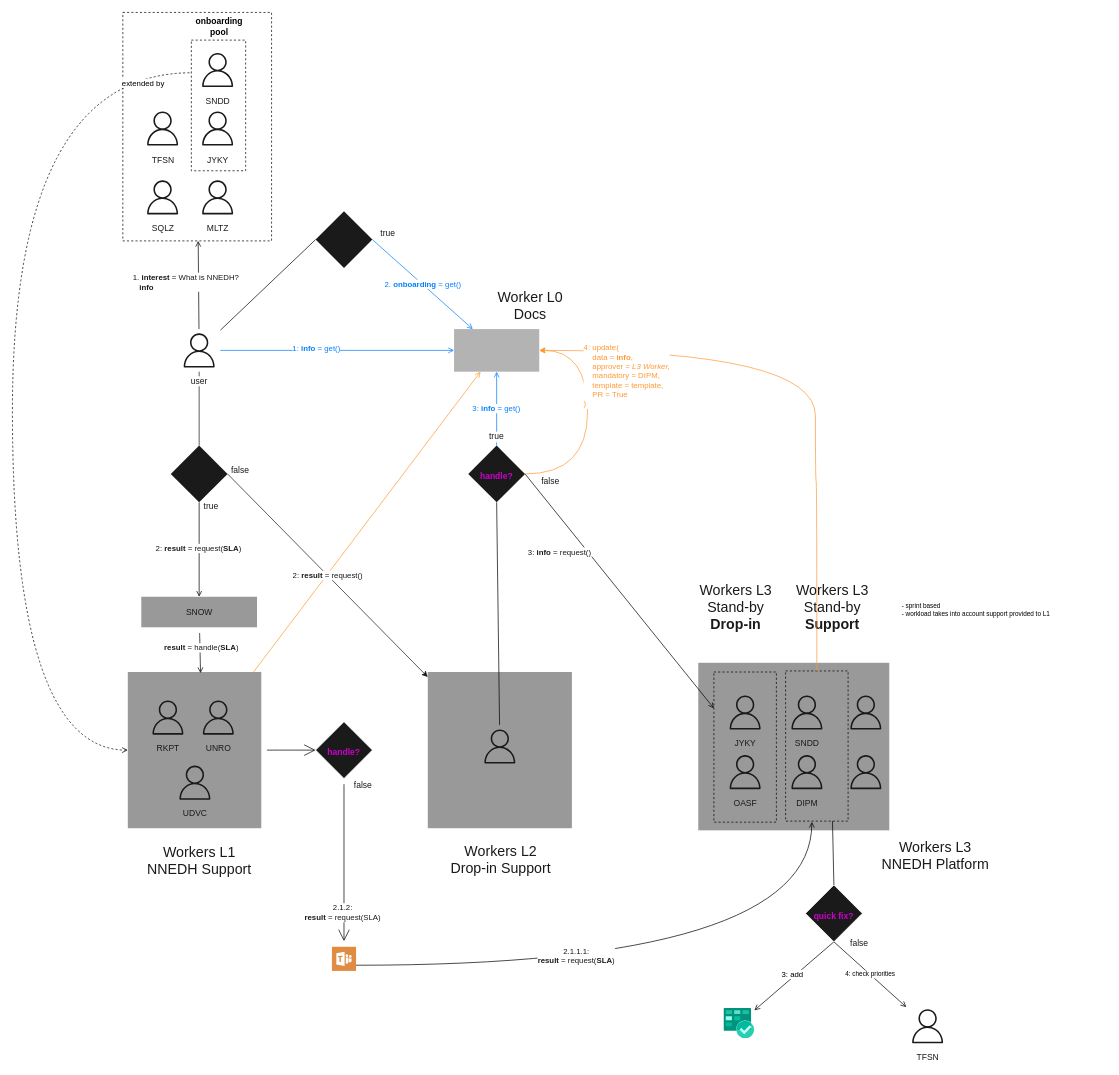
This 1119x1075 diagram has some shape labels left out. Here are the shapes that lost their labels. From the top down, the centre of each, then its label:
the point at 343,239: interest?
the point at 496,350: docs
the point at 198,473: info?
the point at 499,746: L3 Worker = DIPM
the point at 344,958: NNEDH Platform Team
the point at 738,1023: datahub backlog
